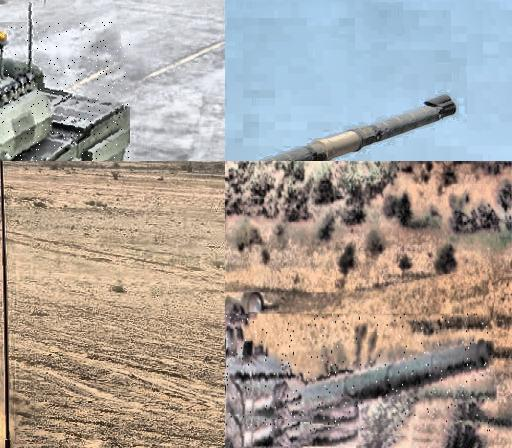tanks: (226, 315, 494, 432), (262, 95, 458, 162), (1, 64, 131, 162)
